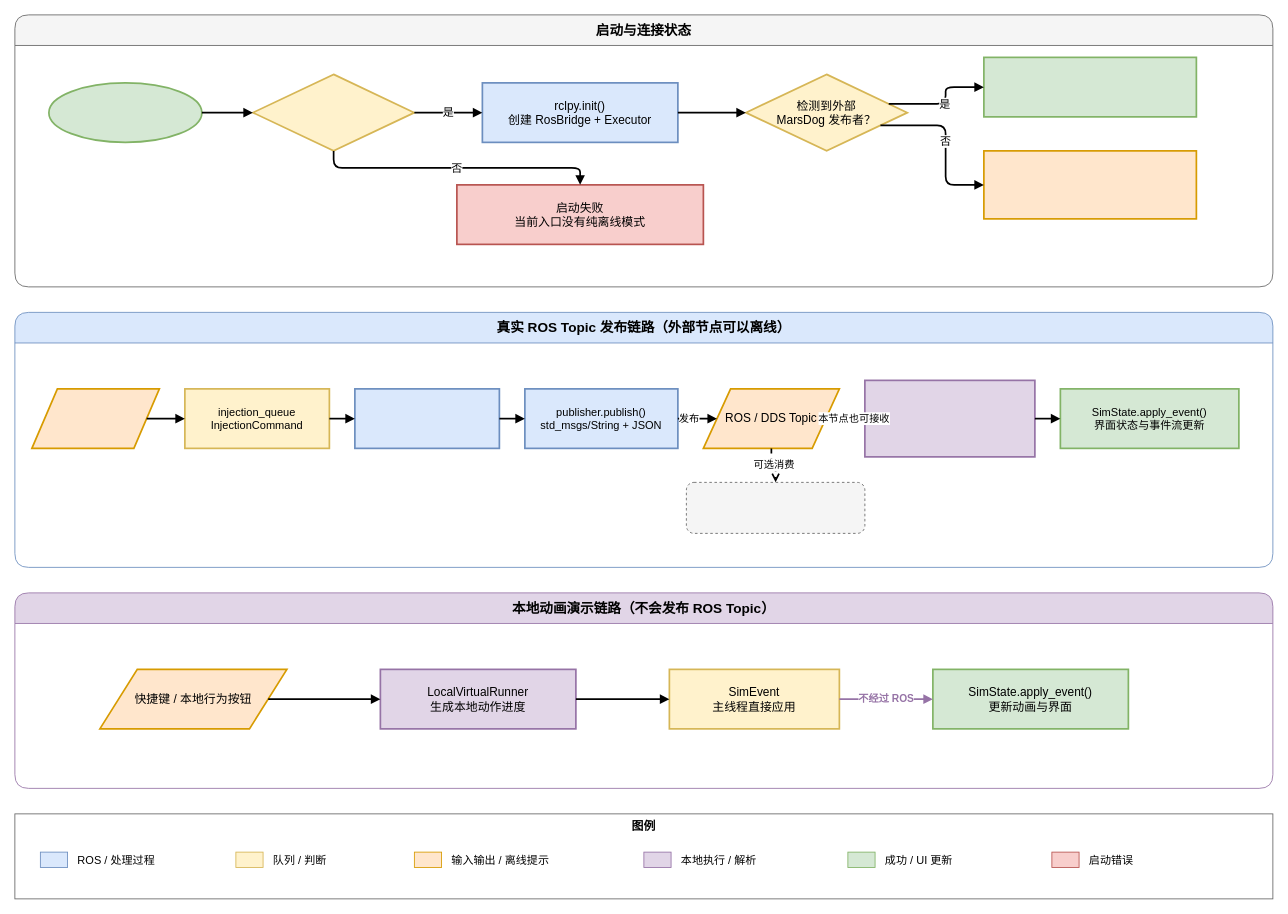
The diagram is 1288 pixels wide and 914 high, and some of its shapes have lost their labels. The shapes that lost their labels are listed below. From the top down, each one's centre as x and y in pixels, then its label:
[1090,86]: 外部节点在线 界面显示对应模块在线
[125,112]: 启动 MarsDog 2D Viewer
[333,112]: ROS2 / rclpy 运行环境可用？
[1090,184]: External publishers: none 界面显示离线，但本程序的 RosBridge 仍在线
[95,418]: 用户点击 发送事件
[427,418]: RosBridge 定时器 drain 注入队列
[949,418]: 本程序订阅 + parsers 归一化为 SimEvent 写入 event_queue
[775,507]: 可选：外部 MarsDog 订阅者 没有订阅者时，publish() 仍可完成
